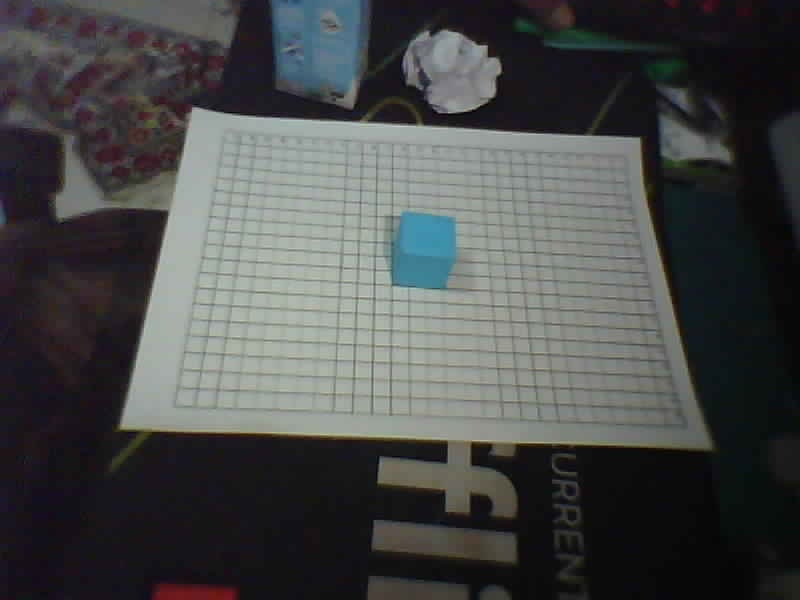LB: (170, 403, 178, 409)
LT: (222, 127, 230, 133)
RB: (681, 425, 689, 431)
RT: (619, 153, 627, 159)
